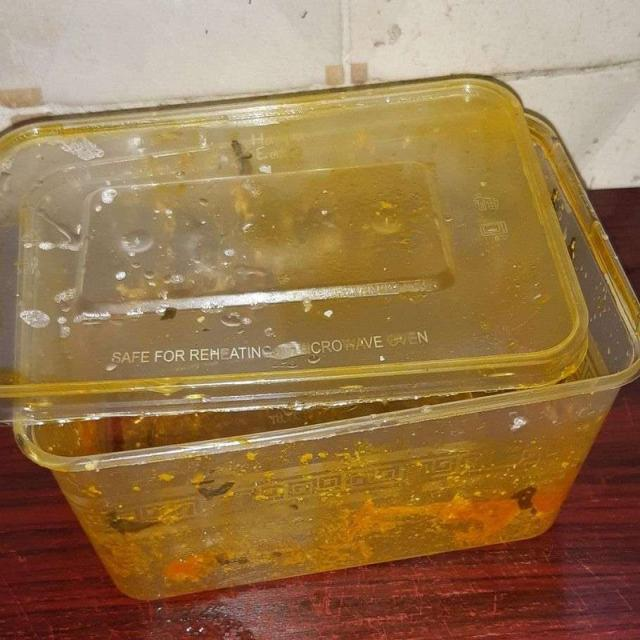plastic: (2, 75, 640, 602)
